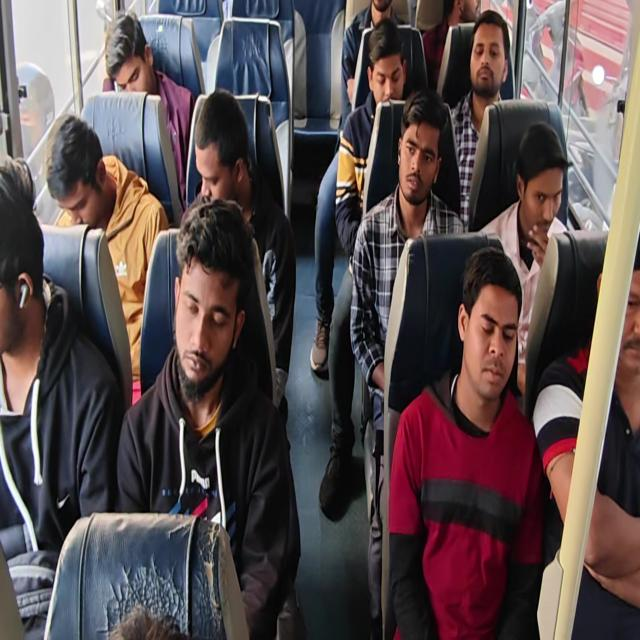person: (171, 219, 252, 400), (198, 92, 259, 225), (460, 264, 514, 402), (0, 165, 41, 344), (592, 238, 640, 388), (48, 112, 114, 217), (100, 16, 161, 100), (521, 144, 568, 237), (401, 110, 432, 201), (372, 45, 406, 111), (471, 30, 504, 94), (447, 0, 496, 40), (361, 0, 394, 24)
